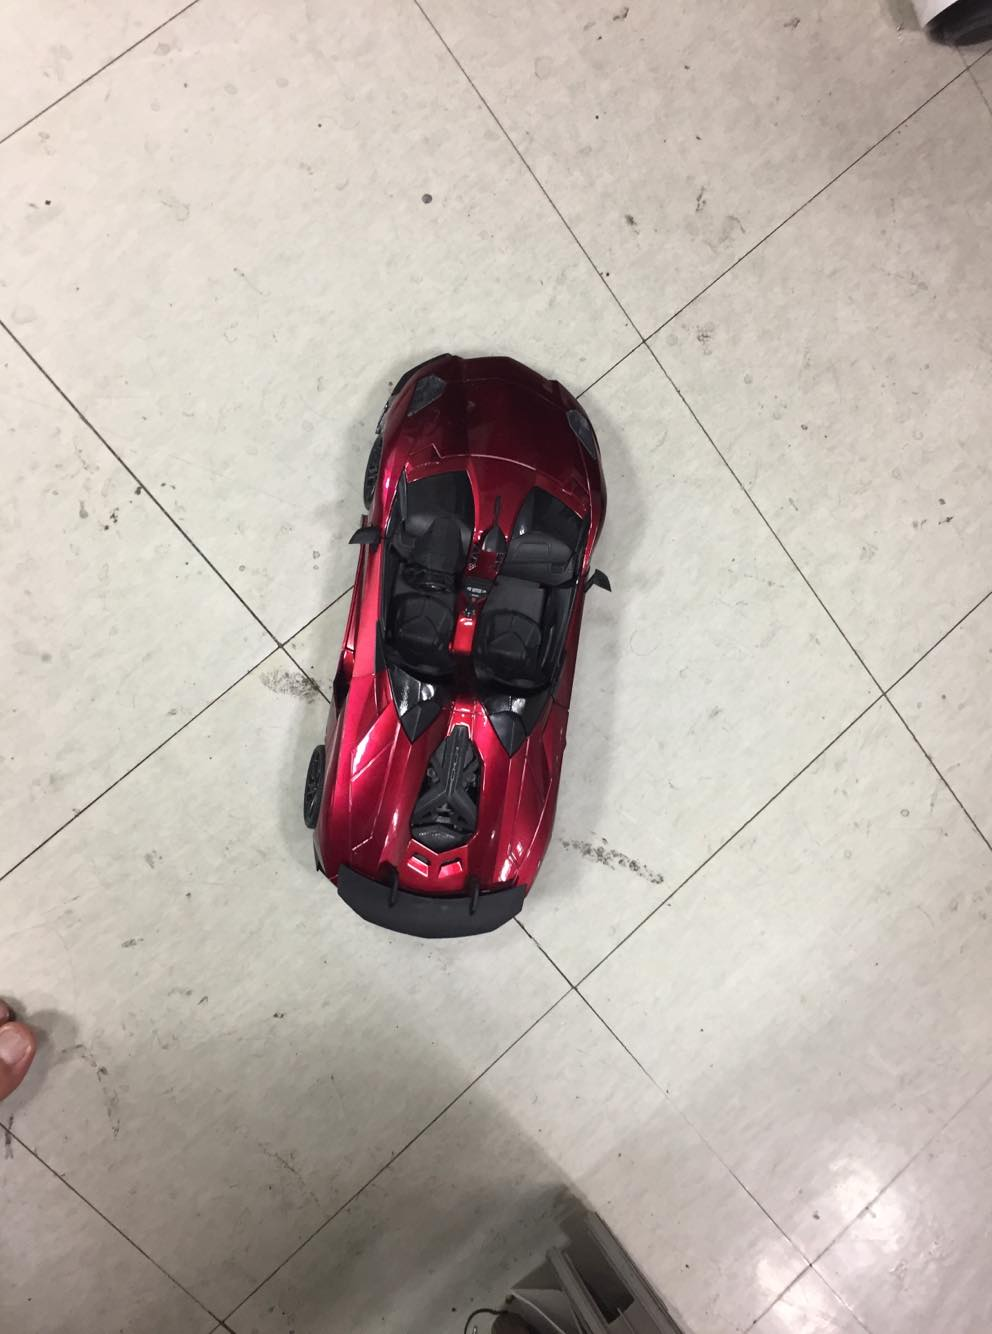car: (294, 318, 623, 936)
